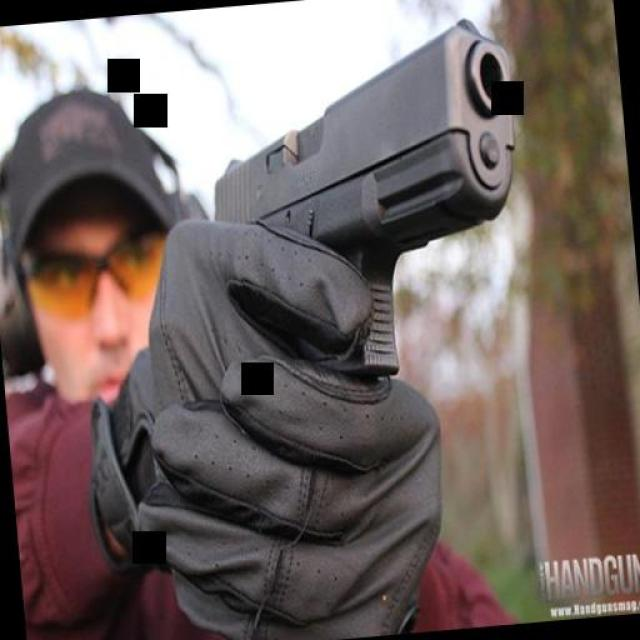gun: (188, 17, 544, 405)
